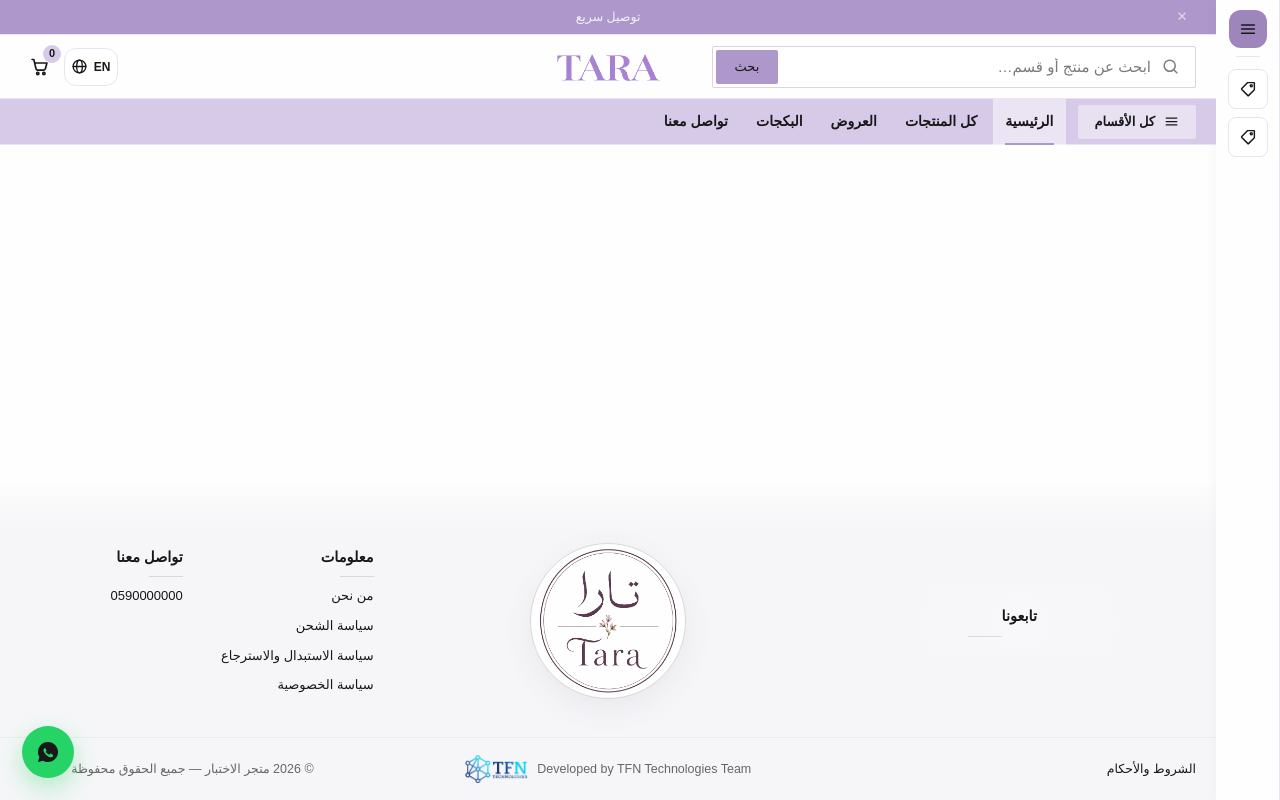
category rail hover intent › moving between rail items neither reopens nor resets anything
The width and height of the screenshot is (1280, 800).
Expected: the navigation bar named "أقسام المتجر" is shown, left=1216, top=0, right=1279, bottom=799
Hover over the link named "مطبوعات المناسبات": [1248, 137] box left=1228, top=117, right=1268, bottom=157
Wait 60 ms
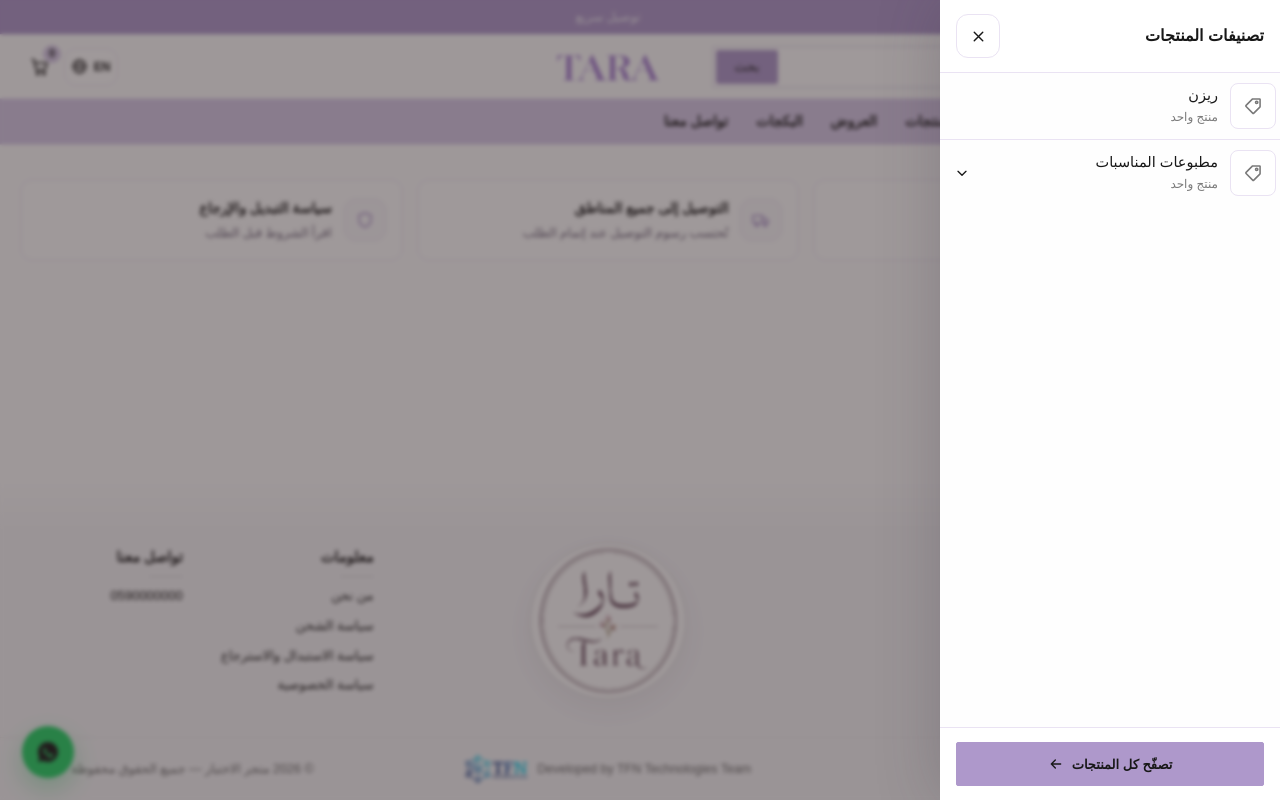
Expected: the dialog "تصنيفات المنتجات" is shown, left=940, top=0, right=1279, bottom=799
